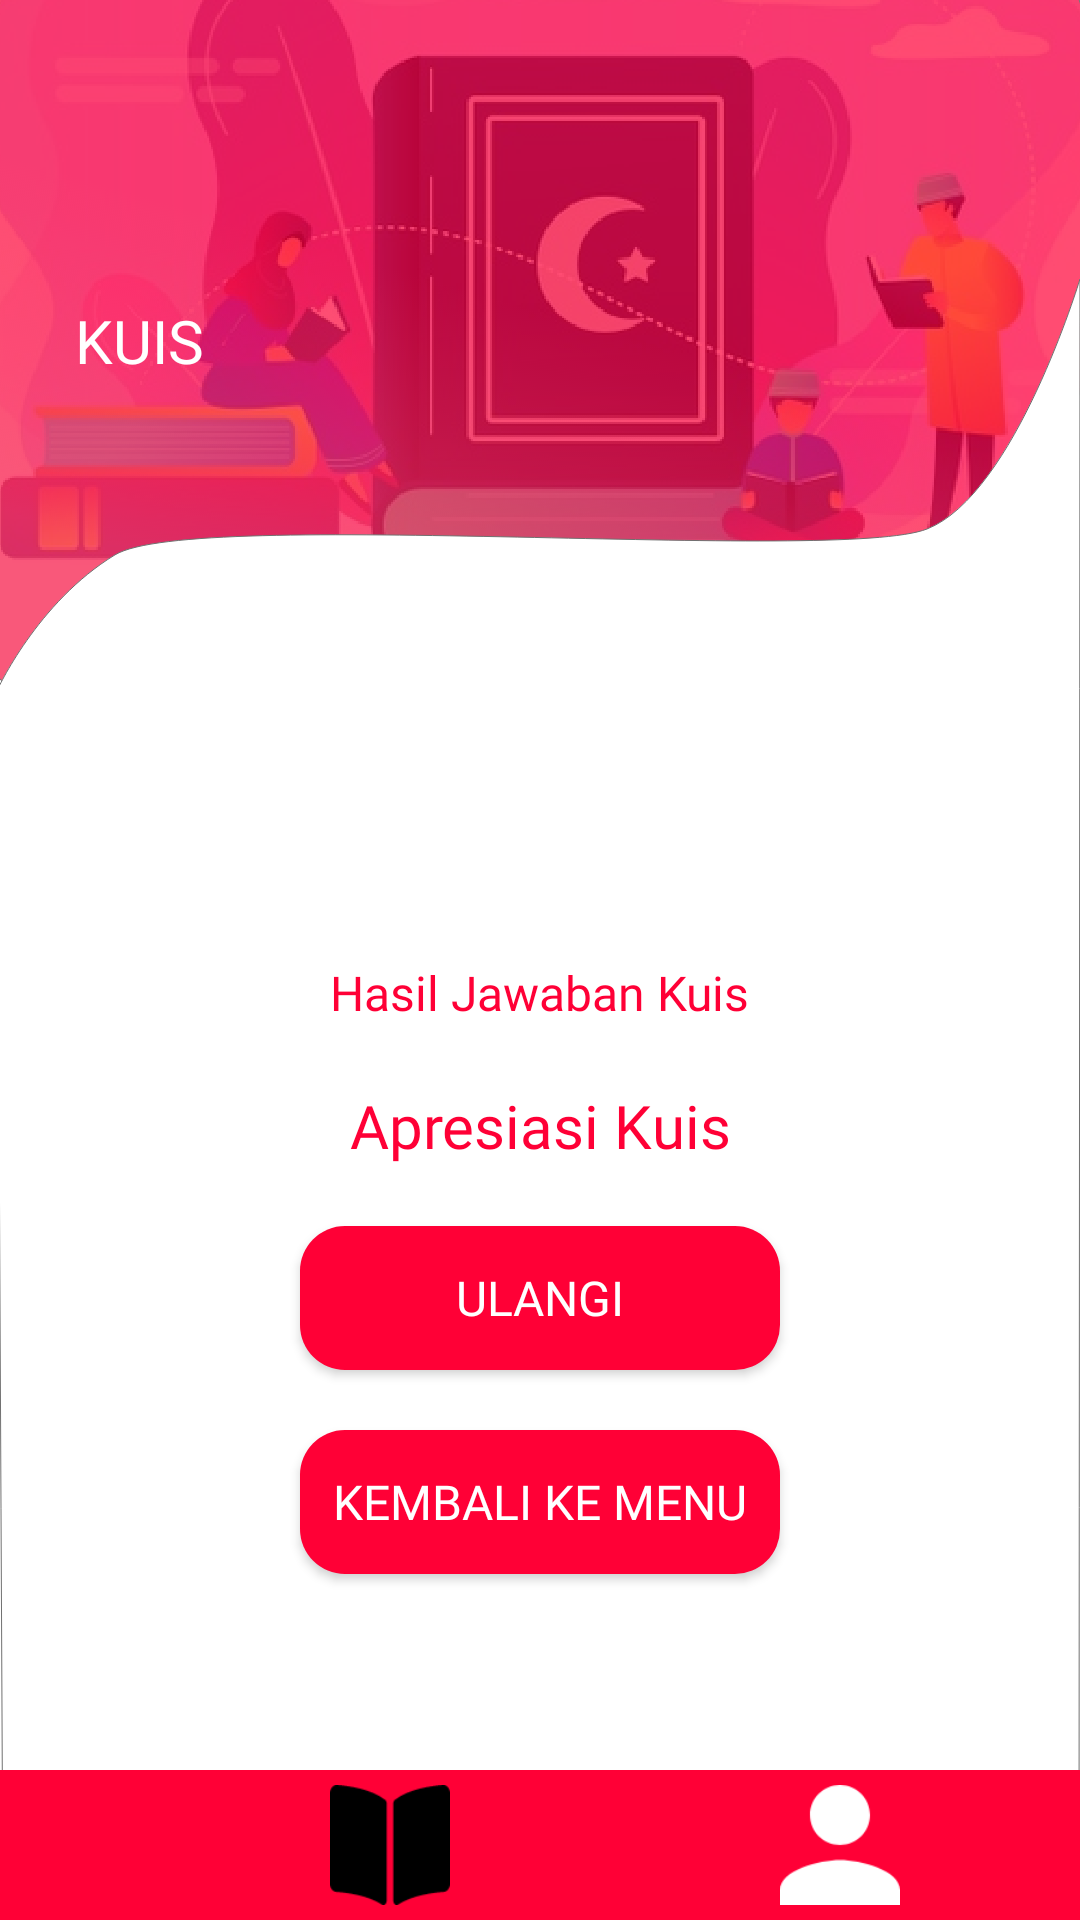

Named icons in this screenshot (1080w x 1920h) and their centers, (x,y):
akun: (840,1845)
